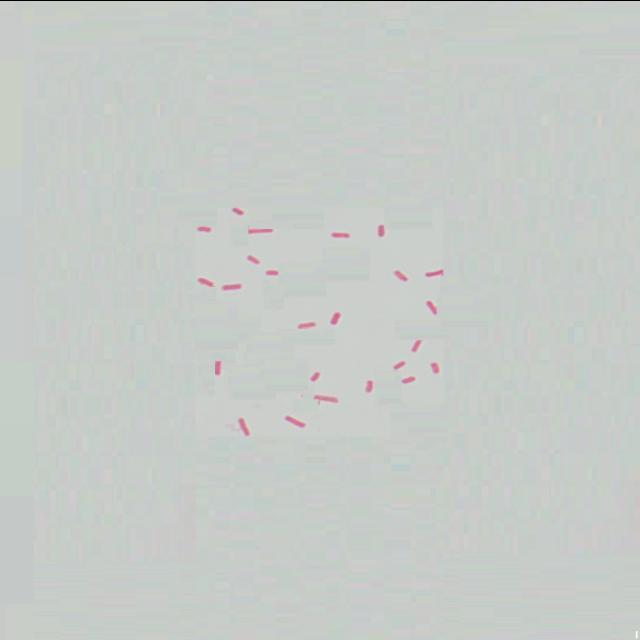E-coli: (233, 412, 253, 439), (311, 393, 343, 406), (281, 415, 309, 429), (246, 225, 278, 237), (406, 335, 426, 354), (421, 266, 448, 280), (359, 376, 377, 396), (388, 267, 411, 282), (294, 320, 320, 333), (424, 297, 440, 318), (372, 222, 392, 238), (221, 279, 243, 293), (212, 358, 228, 376), (196, 275, 216, 289), (196, 223, 216, 237), (396, 374, 419, 386), (327, 230, 352, 241), (328, 310, 346, 325), (305, 371, 327, 383), (389, 359, 411, 371), (426, 359, 444, 373), (264, 266, 282, 278), (229, 205, 247, 217), (245, 253, 261, 265)
